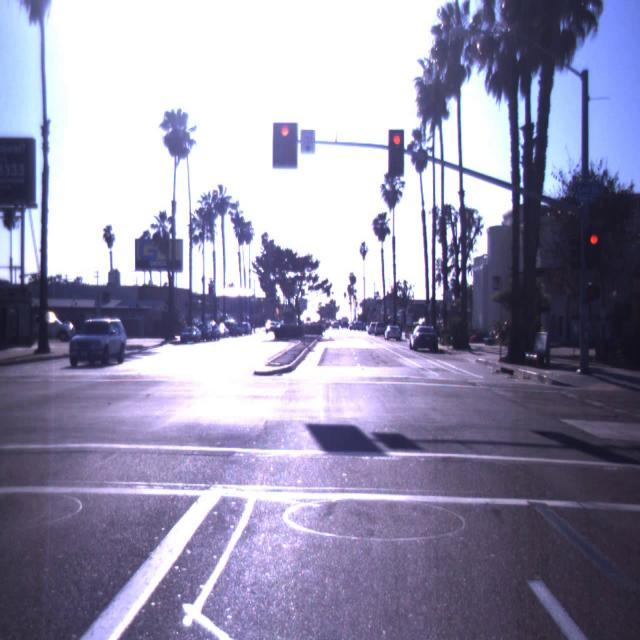stop: (273, 122, 297, 164), (387, 131, 408, 175), (584, 232, 604, 265)
stop traffic light: (273, 122, 297, 164), (387, 131, 408, 175), (584, 232, 604, 265)
